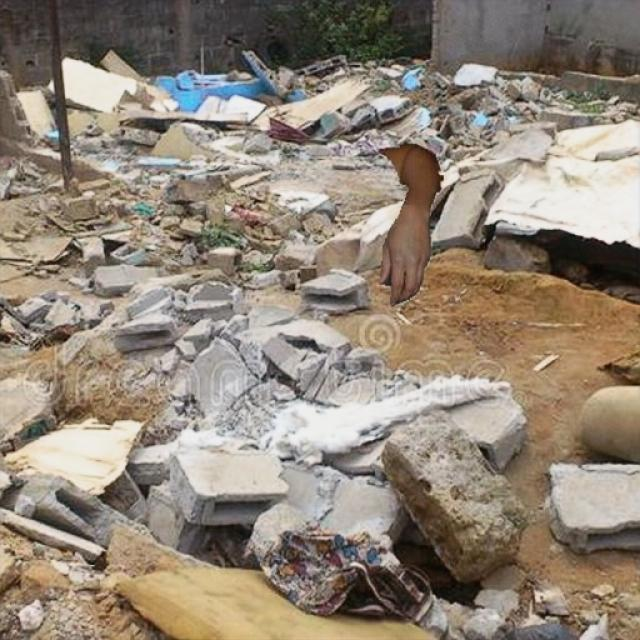Person in Rubble: (378, 144, 442, 305)
